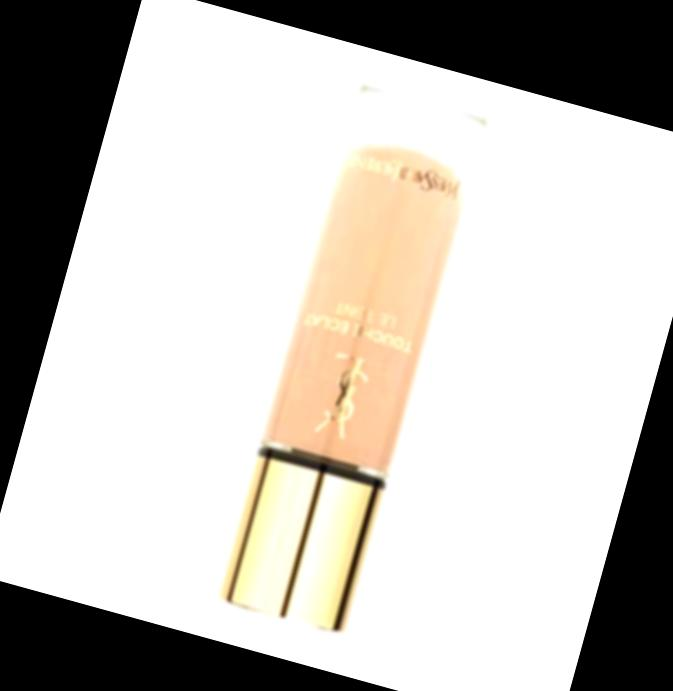cosmetic: (208, 70, 492, 639)
